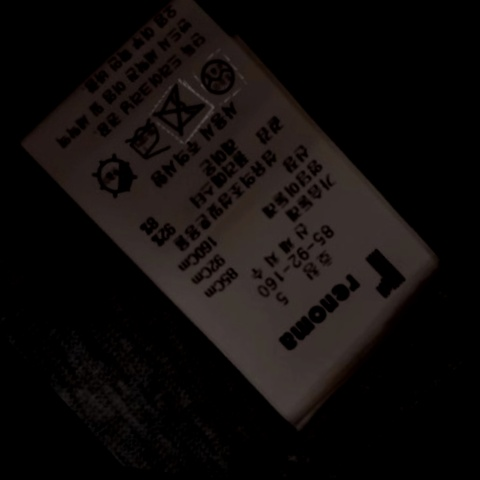DN_wash: (153, 85, 212, 136)
dry_clean_petrol_only: (197, 52, 243, 98)
iron_low: (121, 119, 173, 166)
line_dry_in_shade: (90, 153, 146, 201)
